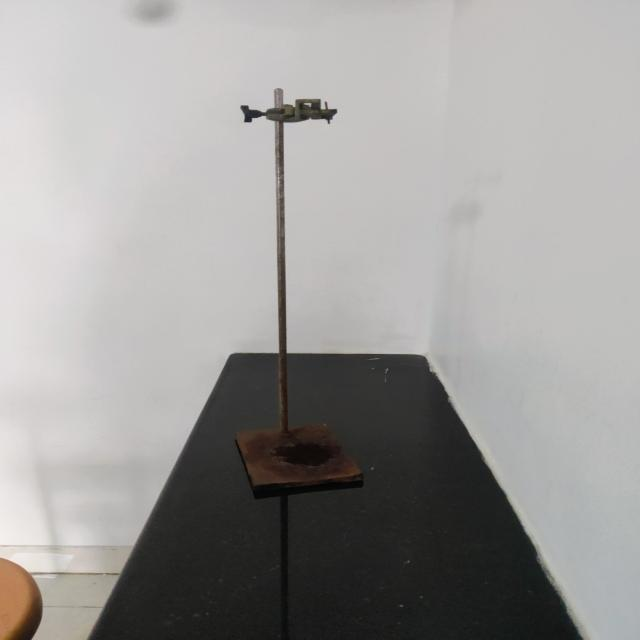Burette_Stands: (202, 73, 388, 524)
